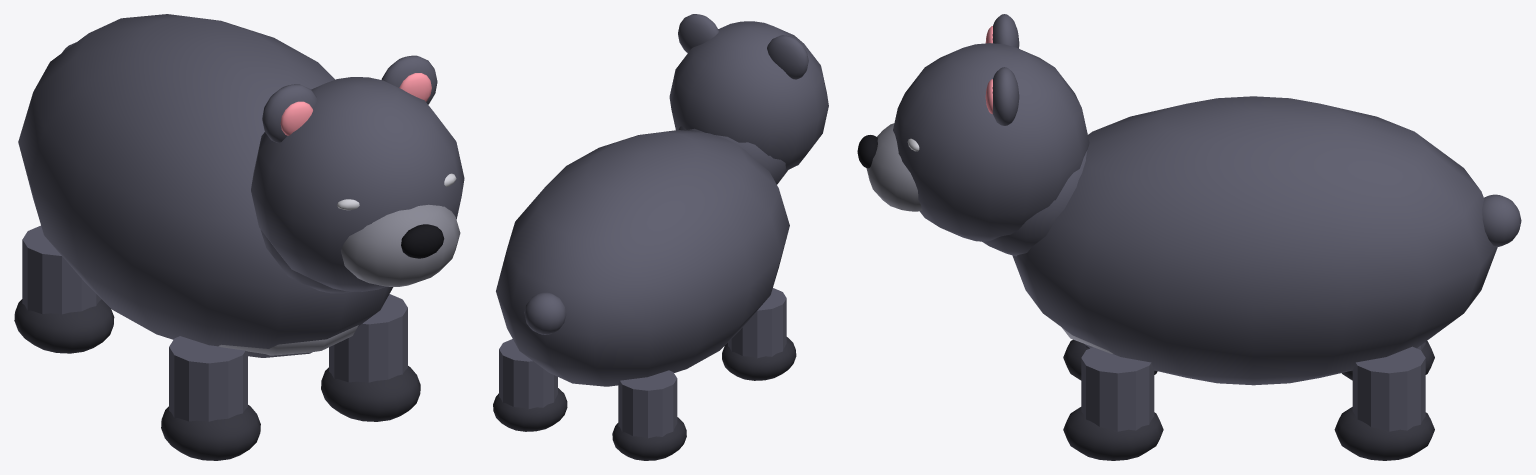
The picture shows the model from 3 angles, left to right: view 1: azimuth 30°, elevation 25°; view 2: azimuth 150°, elevation 25°; view 3: azimuth 270°, elevation 25°; orthographic projection. The views are drawn at different scales.
Parts seen in each view (by area): view 1: Blind Bear; view 2: Blind Bear; view 3: Blind Bear.
Boxes of the visible parts, <box> form: Blind Bear: <box>14,14,464,460</box>; Blind Bear: <box>493,14,828,460</box>; Blind Bear: <box>857,14,1521,460</box>.
Bounding box in the file's own units: 2.12 × 2.83 × 4.54.
Materials: 1 (1 with a texture image).
